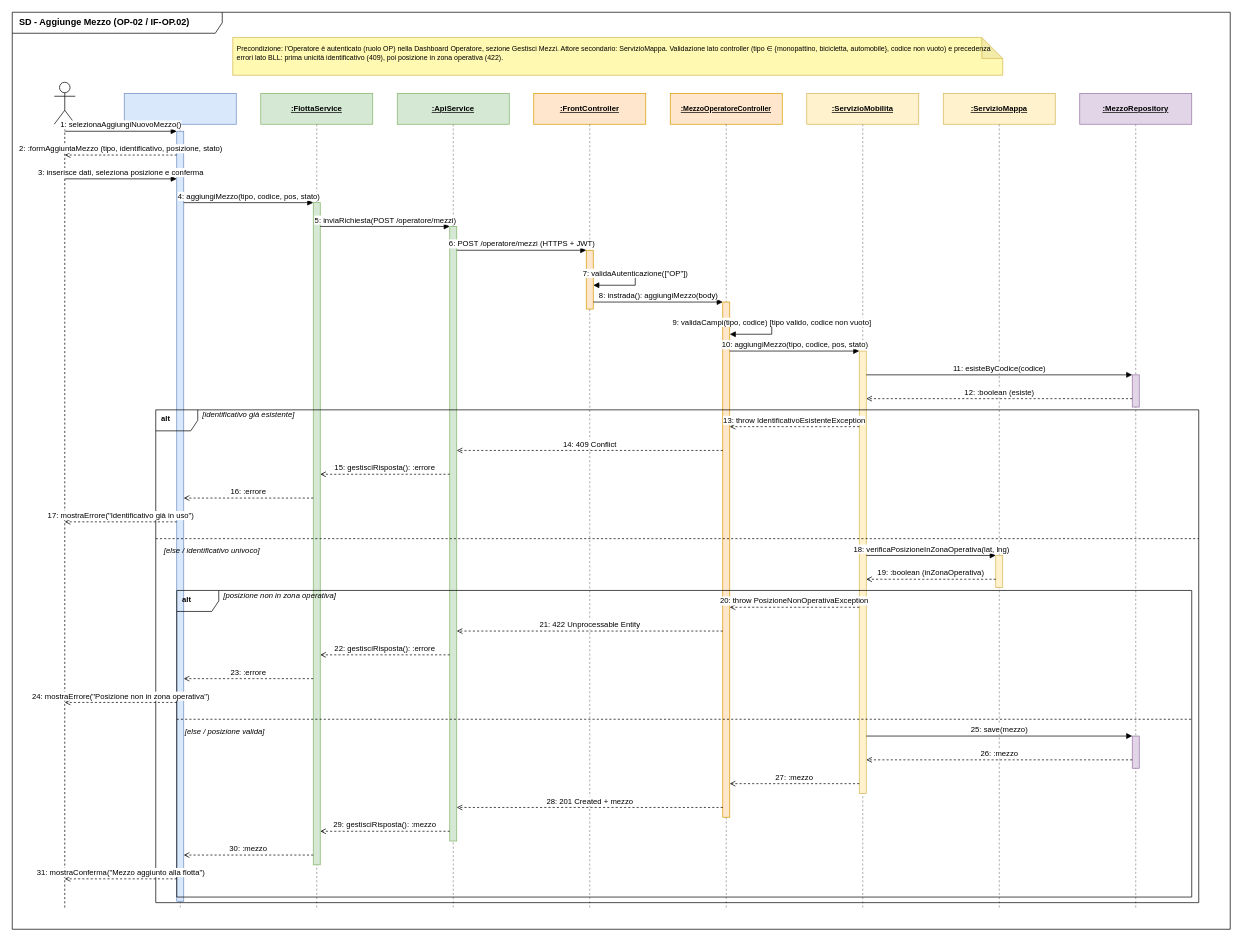
The diagram is 1243 pixels wide and 942 high, and some of its shapes have lost their labels. The shapes that lost their labels are listed below. From the top down, each one's centre as x and y in pixels, then its label:
the point at 64,103: :Operatore
the point at 180,108: :VistaMezziOperatore
